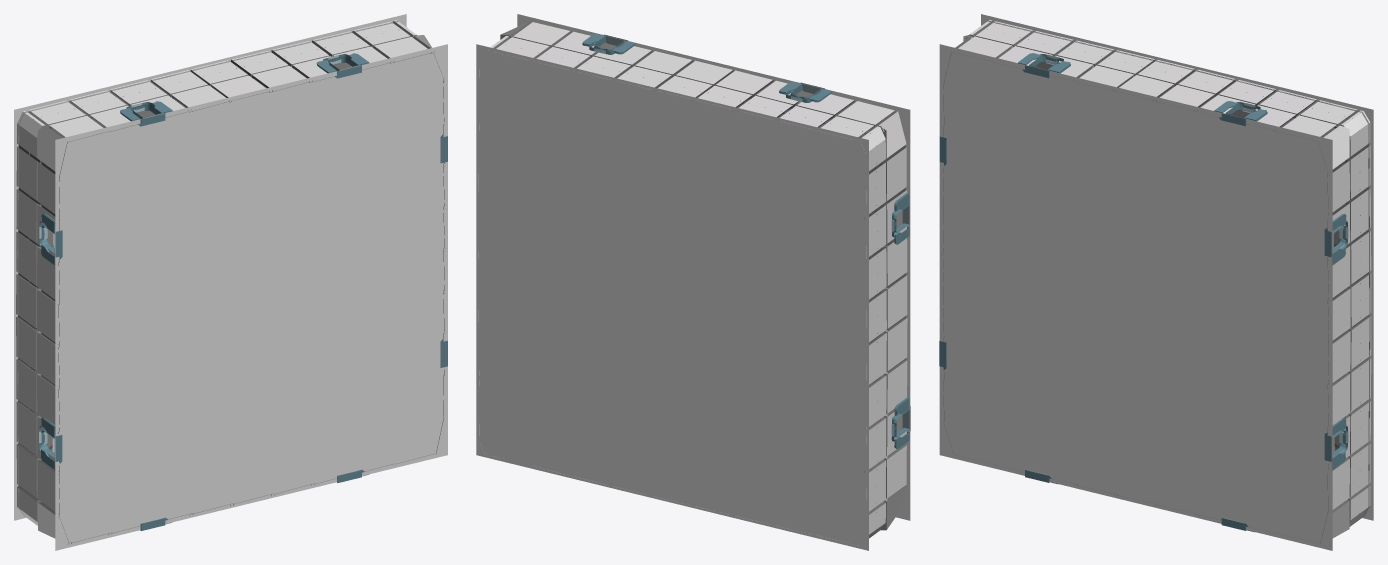
Rendered from m_BigRoom_WithOpenDoors.fbx.
3 renders of one model, left to right at view 1: azimuth 30°, elevation 25°; view 2: azimuth 150°, elevation 25°; view 3: azimuth 330°, elevation 25°, orthographic.
Visible parts, largest first — view 1: m_floor, m_Walls, m_ceiling; view 2: m_ceiling, m_Walls, m_floor; view 3: m_floor, m_Walls, m_ceiling.
Part boxes in pixels (box(x1,y1,x2,y2)): m_floor: box(55, 44, 447, 550); m_Walls: box(16, 20, 445, 544); m_ceiling: box(14, 14, 406, 520); m_ceiling: box(476, 44, 868, 550); m_Walls: box(478, 21, 907, 538); m_floor: box(517, 14, 910, 520); m_floor: box(939, 44, 1332, 550); m_Walls: box(942, 20, 1371, 544); m_ceiling: box(981, 14, 1373, 520).
Bounding box in the file's own units: 3001 × 3008 × 552.
